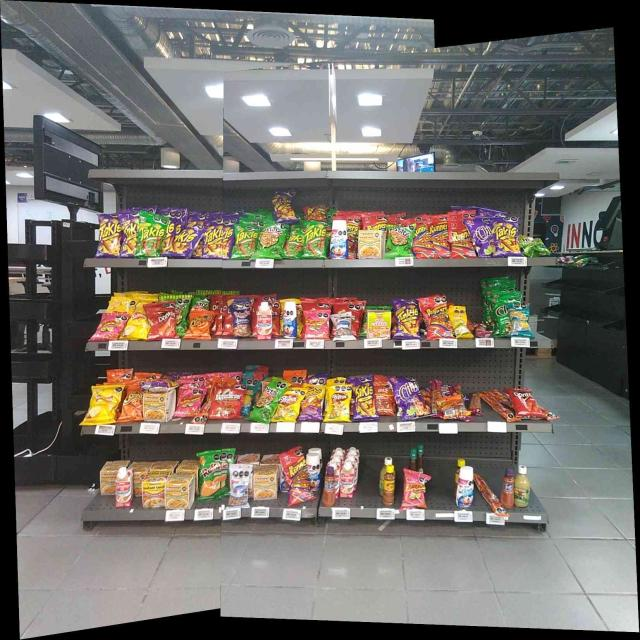bitzEnchilado90: (376, 382, 392, 414)
bitzEnchilado95: (475, 473, 499, 510), (486, 390, 509, 417), (196, 400, 210, 426)
bitzHabanero: (431, 379, 442, 418), (470, 391, 482, 415), (474, 322, 490, 338)
bokadosCacahuates: (232, 298, 251, 337)
botaneraChilito: (383, 465, 395, 505)
cheetosFlaminHot: (303, 380, 323, 420), (146, 378, 177, 391)
cheetosOriginal: (123, 388, 142, 420), (190, 309, 210, 336)
chipsFuego: (397, 377, 423, 418), (474, 219, 492, 256)
chipsJalapeno: (493, 296, 508, 338)
chipsPapatinas: (520, 235, 546, 255)
churrumais: (404, 471, 426, 508), (306, 310, 329, 340), (98, 313, 124, 338), (179, 386, 194, 415)
delPrimoSalsa: (515, 465, 530, 505)
doritosNacho: (150, 304, 175, 338), (512, 389, 540, 414)
fritosLimon: (326, 386, 349, 420), (279, 391, 298, 421)
leoCacahuates: (231, 464, 248, 506), (334, 313, 352, 338)
maruchanPollo: (165, 476, 194, 510), (143, 392, 174, 420), (255, 466, 279, 500), (358, 230, 384, 258)
maruchanRes: (142, 472, 164, 506)
nestleCarnation: (115, 468, 134, 506), (256, 303, 272, 339), (341, 461, 354, 498)
nestleLechera: (457, 467, 473, 508), (330, 220, 347, 258), (283, 302, 297, 338), (309, 454, 320, 489)
nissinCamaron: (367, 310, 391, 338)
productoAtras: (443, 398, 465, 418)
rancheritos: (214, 387, 239, 417)
rufflesQueso: (201, 452, 223, 498)
runners: (286, 449, 308, 502), (426, 297, 450, 336), (451, 215, 473, 257), (414, 222, 432, 258), (434, 221, 449, 257), (306, 203, 326, 221)
sabritasOriginal: (90, 385, 116, 421), (126, 306, 148, 339)
semillasCalabaza: (453, 306, 468, 336)
semillasGirasol: (510, 304, 528, 336)
tajinDulce: (323, 466, 335, 505), (502, 467, 513, 505)
takisFuego: (494, 217, 518, 256), (396, 299, 420, 338), (168, 226, 198, 257), (98, 214, 120, 256), (353, 377, 373, 420), (203, 218, 222, 257), (274, 190, 295, 221), (122, 214, 137, 256)
takisOriginal: (139, 212, 161, 256), (306, 222, 325, 258), (235, 224, 256, 256), (286, 225, 305, 257)
tostitos: (260, 223, 284, 258), (388, 225, 412, 256), (256, 381, 274, 421)
